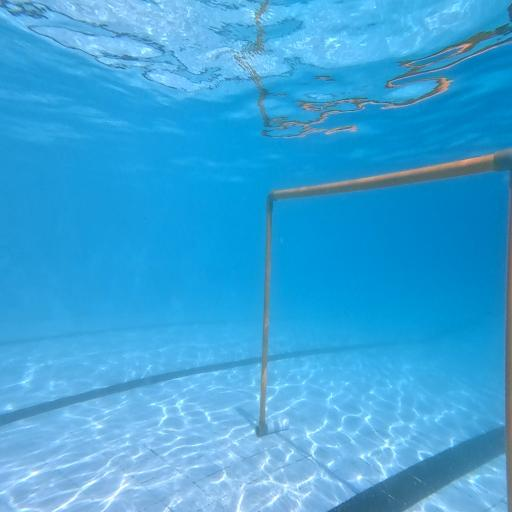gate: (255, 148, 512, 512)
